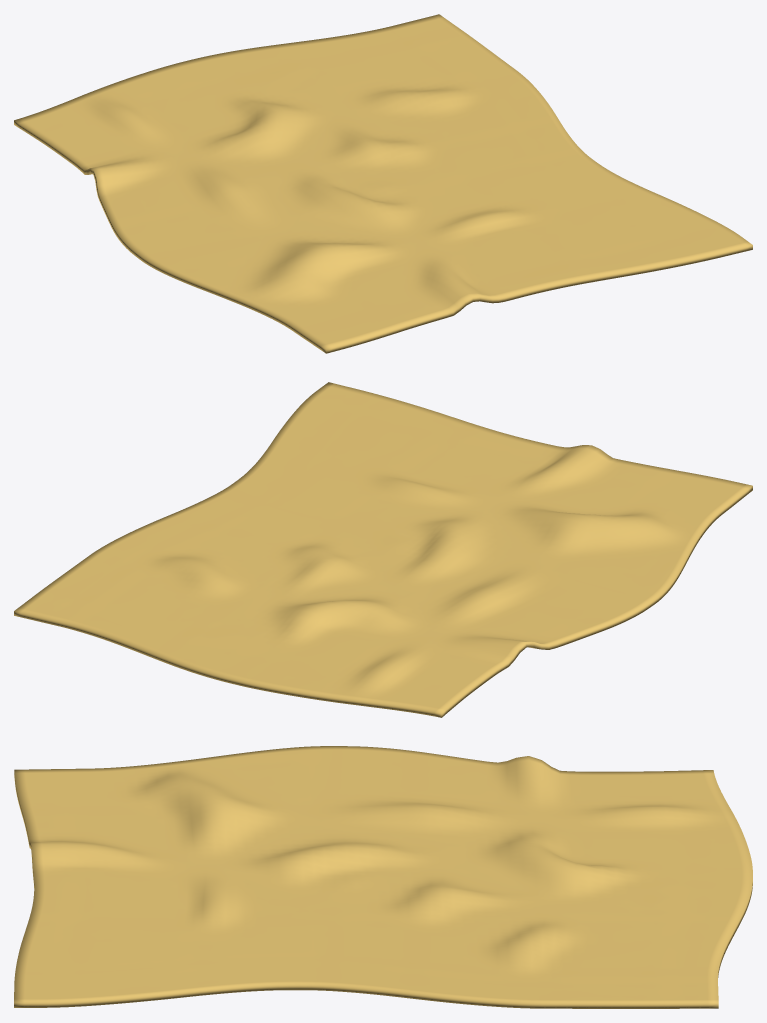
The model's file is ditanditan.fbx.
The picture shows the model from 3 angles, top to bottom: view 1: azimuth 30°, elevation 25°; view 2: azimuth 150°, elevation 25°; view 3: azimuth 270°, elevation 25°; orthographic projection. The views are drawn at different scales.
Parts seen in each view (by area): view 1: 平面.022; view 2: 平面.022; view 3: 平面.022.
Boxes of the visible parts, x1,y1,x2,y2 form: 平面.022: (14, 14, 752, 353); 平面.022: (14, 382, 752, 717); 平面.022: (14, 746, 752, 1008).
Bounding box in the file's own units: 1141 × 42.77 × 1383.
